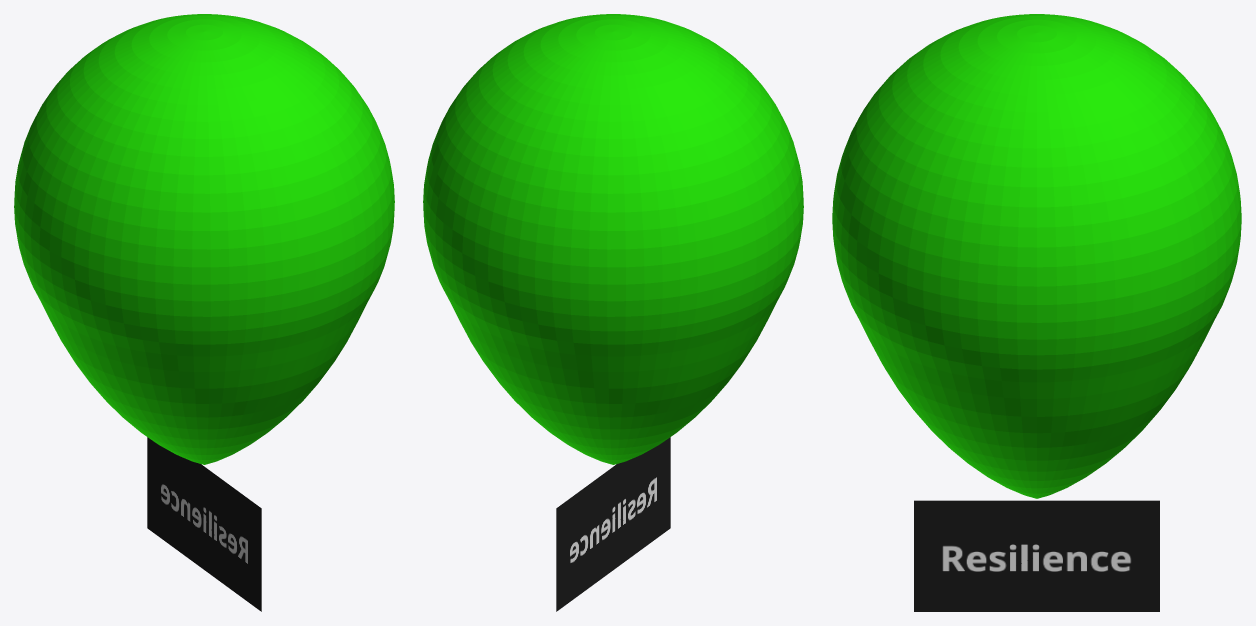
The model's file is ballon_03.glb.
3 views of the same model, side by side, from view 1: azimuth 30°, elevation 25°; view 2: azimuth 150°, elevation 25°; view 3: azimuth 270°, elevation 25° (orthographic). The views are drawn at different scales.
Parts seen in each view (by area): view 1: Balloon_2, Sign; view 2: Balloon_2, Sign; view 3: Balloon_2, Sign.
Boxes of the visible parts, bbox=[...] form: Balloon_2: bbox=[14, 14, 394, 464]; Sign: bbox=[147, 437, 261, 611]; Balloon_2: bbox=[423, 14, 803, 464]; Sign: bbox=[556, 437, 670, 611]; Balloon_2: bbox=[832, 14, 1241, 498]; Sign: bbox=[914, 500, 1159, 611].
Size of the model in its own units: 2 by 3.12 by 2.
2 materials, 1 textured.
